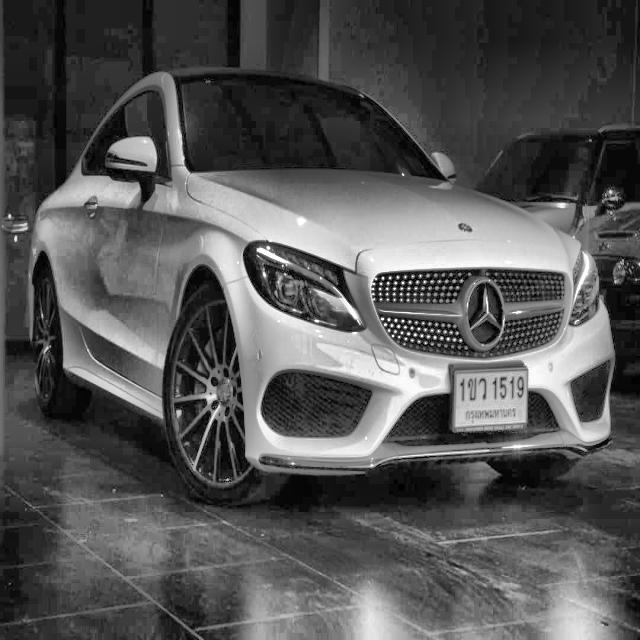license-plate: (454, 360, 528, 432)
